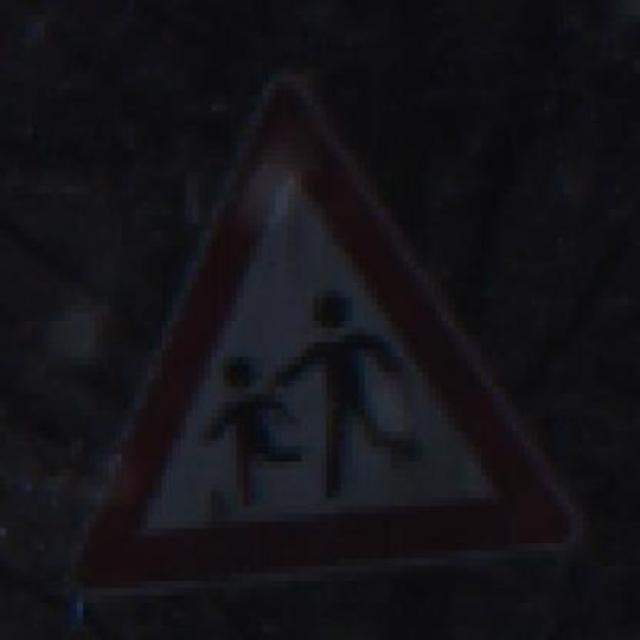Beware of children: (57, 59, 589, 588)
